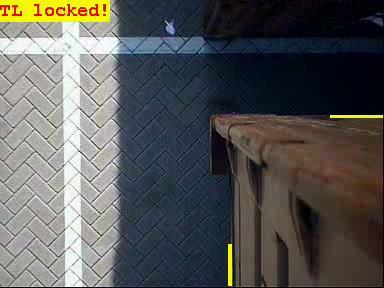groundmarker_2: (84, 29, 183, 103), (84, 117, 183, 191)
